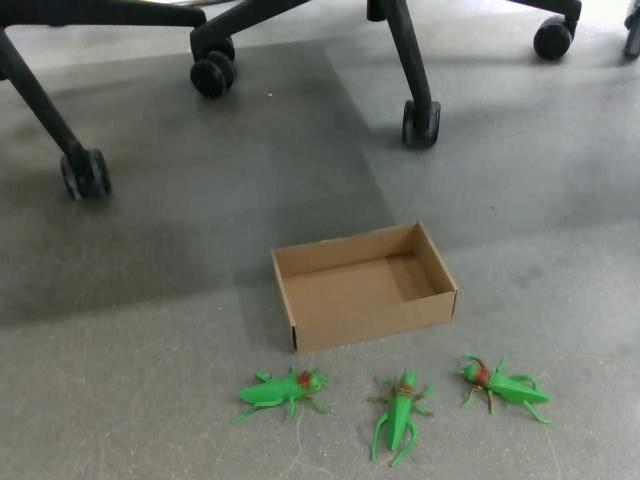box: (270, 220, 459, 354)
grasshopper: (455, 353, 553, 424), (366, 366, 433, 467), (230, 365, 332, 425)
